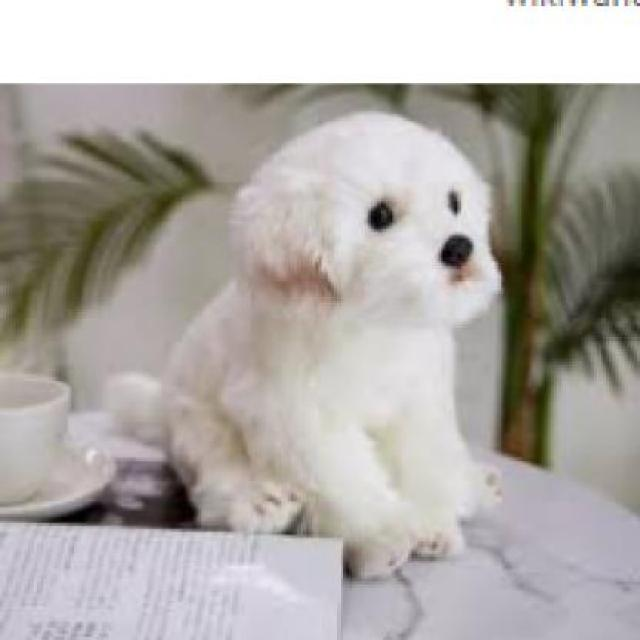Dog: (103, 104, 514, 590)
